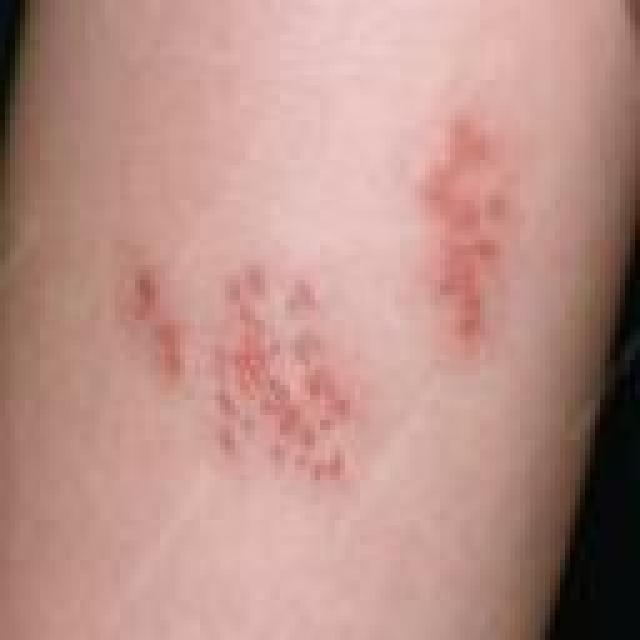Shingles: (115, 248, 350, 485), (416, 108, 508, 344)
